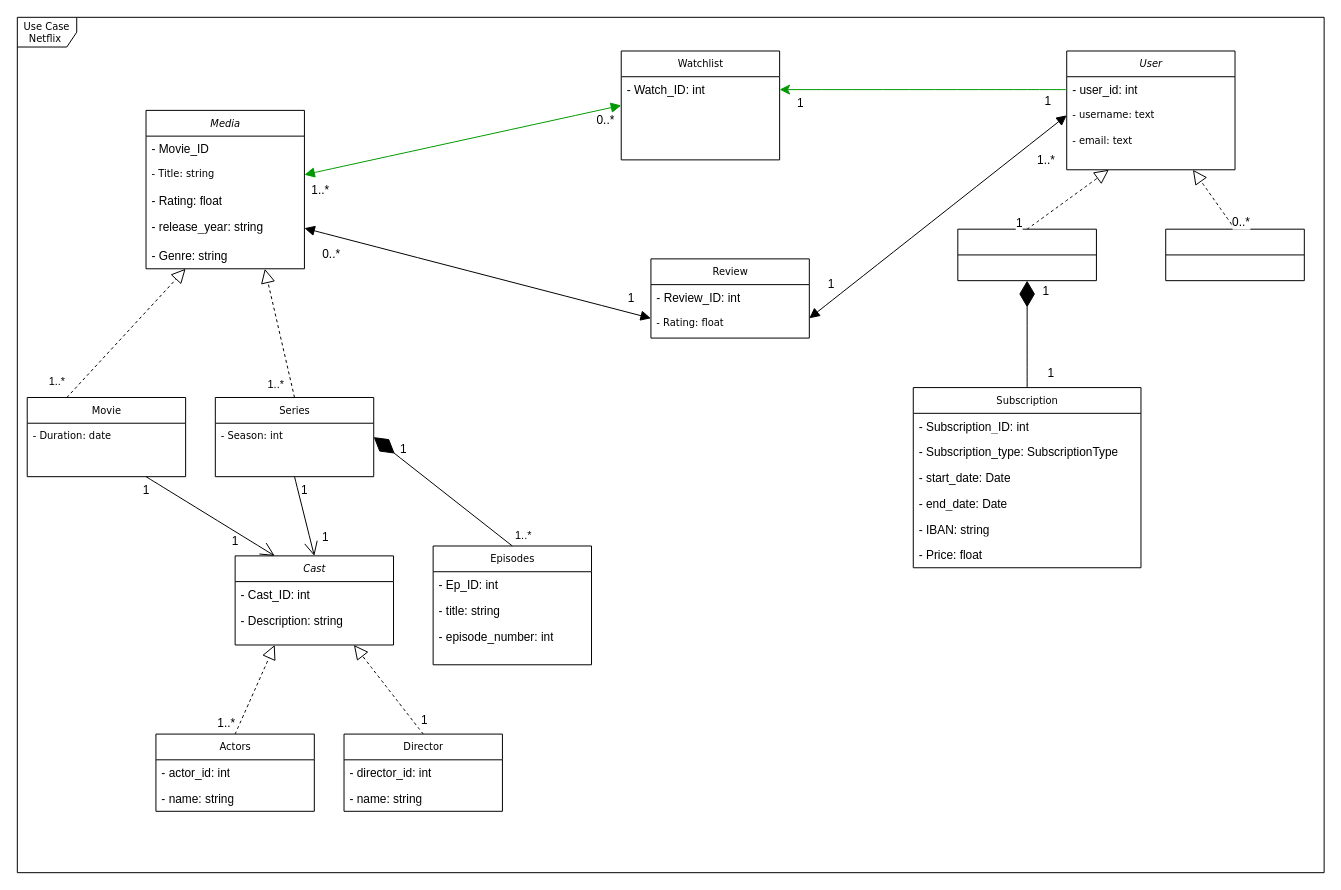
Image size: 1341x890. Some labels were removed from this diagram. The shapes that lost their labels are listed below. From the top down, each one's centre as x and y in pixels, then its label:
At (x=1026, y=254): "MainUser".
At (x=1234, y=254): "OtherUser".
